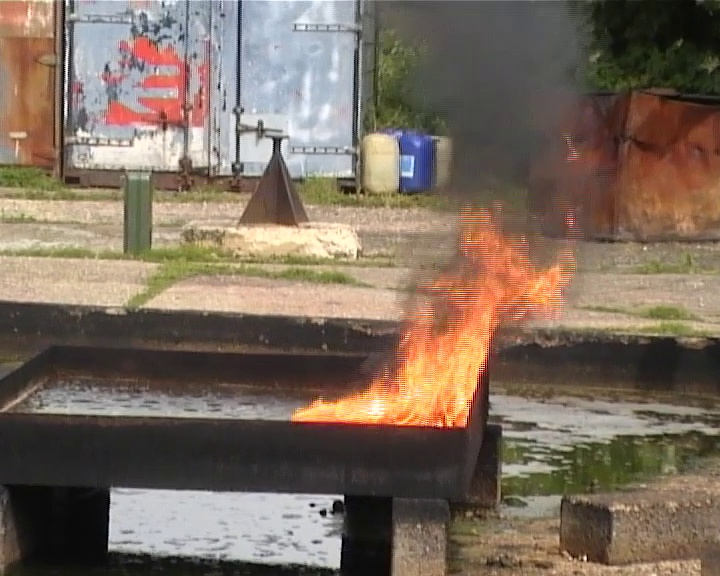fire: (293, 221, 575, 425)
